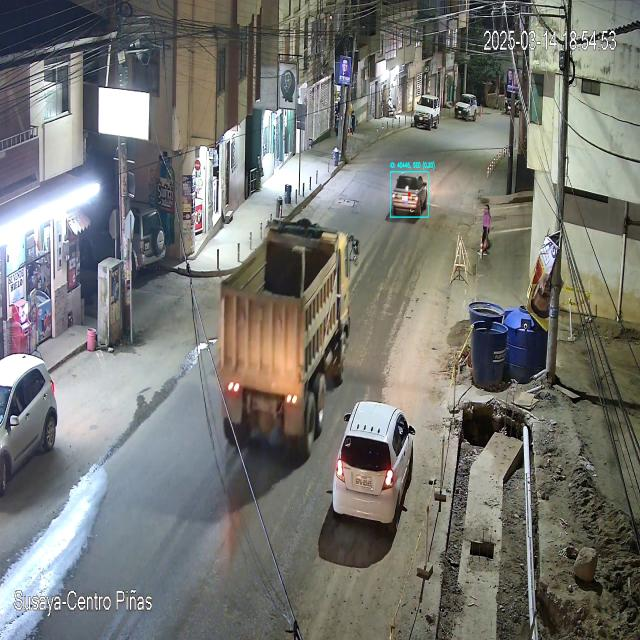TRUCK: (218, 226, 358, 453)
